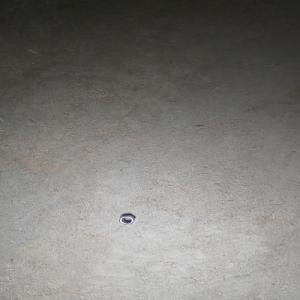Nut: (117, 214, 135, 225)
